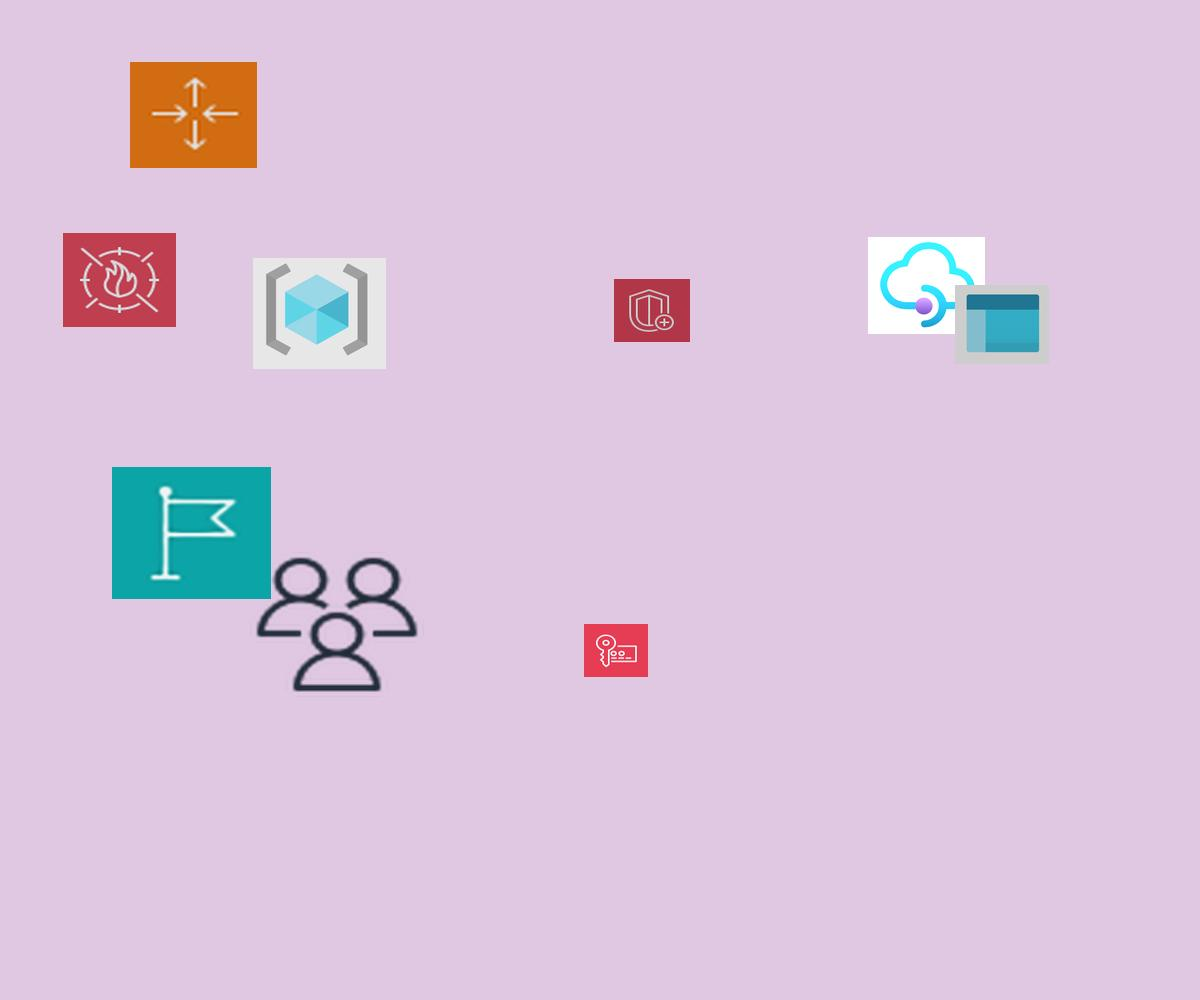AWS-Key-Management-Service: (584, 624, 648, 677)
AWS-Region: (112, 467, 271, 599)
AWS-Res_Users: (250, 552, 424, 697)
AWS-Scaling-group: (130, 62, 257, 168)
AWS-Shield: (614, 279, 690, 342)
AWS-WAF: (63, 233, 176, 327)
Azure_api_gateway: (868, 237, 985, 334)
Azure_management-portal: (955, 285, 1049, 364)
Azure_resource_group: (253, 258, 386, 369)
